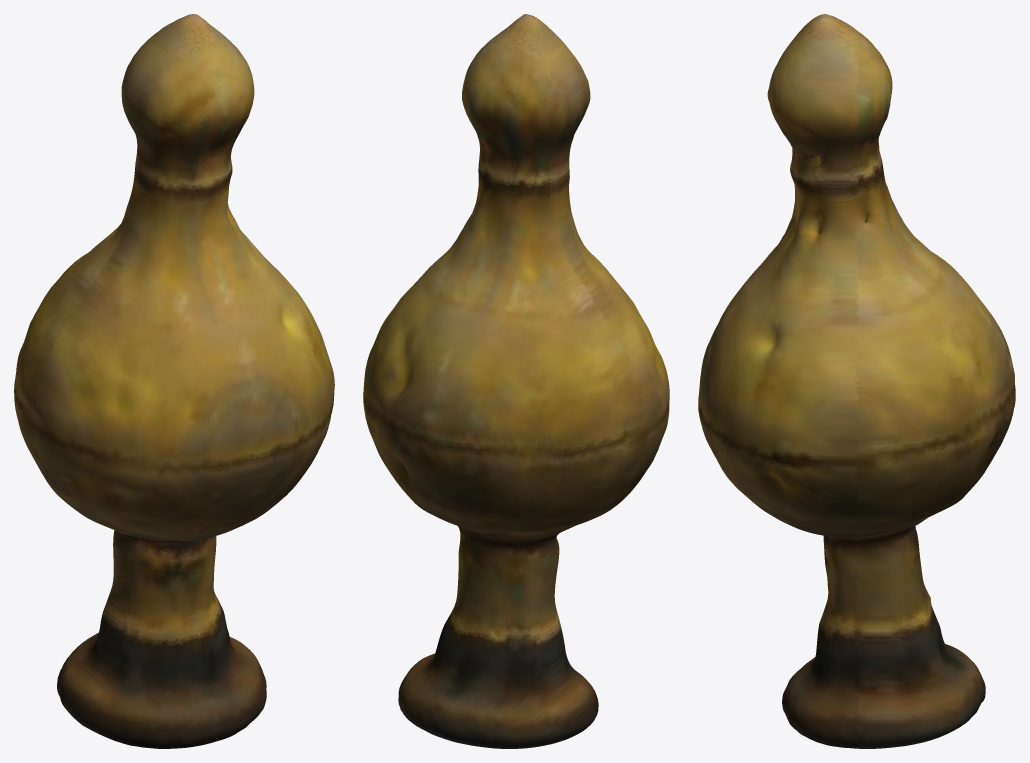
File: kfl-2292.glb
3 views of the same model, side by side, from view 1: azimuth 30°, elevation 25°; view 2: azimuth 150°, elevation 25°; view 3: azimuth 270°, elevation 25° (orthographic). The views are drawn at different scales.
Visible parts, largest first — view 1: geometry_0; view 2: geometry_0; view 3: geometry_0.
Boxes of the visible parts, x1=… form: geometry_0: x1=14, y1=14, x2=334, y2=748; geometry_0: x1=363, y1=14, x2=669, y2=748; geometry_0: x1=698, y1=14, x2=1015, y2=748.
Size of the model in its own units: 0.4027 by 0.9915 by 0.4037.
Materials: 1 (1 with a texture image).
